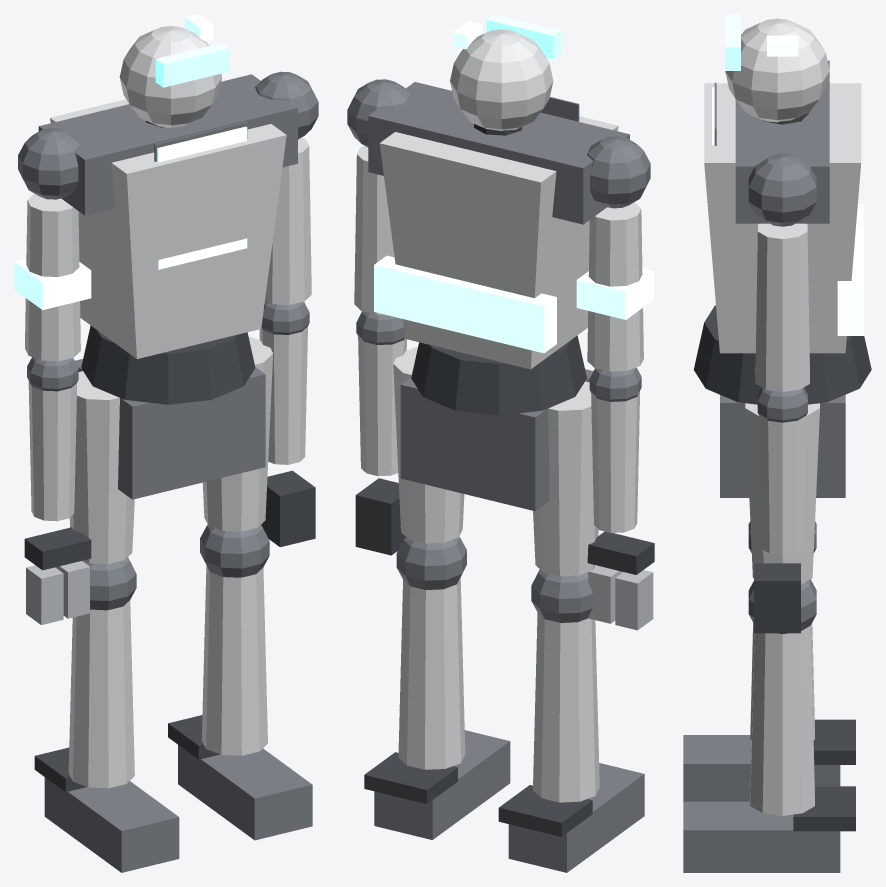
The model's file is service-robot-biped.glb.
3 renders of one model, left to right at view 1: azimuth 30°, elevation 25°; view 2: azimuth 150°, elevation 25°; view 3: azimuth 270°, elevation 25°, orthographic. The views are drawn at different scales.
Parts seen in each view (by area): view 1: service-robot-biped, arm-left/shell, arm-left/graphite, arm-left/steel, arm-left/screen, arm-left/rubber; view 2: service-robot-biped, arm-left/shell, arm-left/graphite, arm-left/steel, arm-left/screen, arm-left/rubber; view 3: service-robot-biped.
Part boxes in pixels (x1,y1,x2,y2): service-robot-biped: (34, 14, 318, 872); arm-left/shell: (25, 193, 80, 521); arm-left/graphite: (18, 128, 81, 391); arm-left/steel: (26, 561, 89, 624); arm-left/screen: (14, 259, 91, 310); arm-left/rubber: (24, 527, 91, 570); service-robot-biped: (347, 14, 644, 872); arm-left/shell: (587, 202, 643, 532); arm-left/graphite: (586, 136, 650, 401); arm-left/steel: (588, 565, 653, 630); arm-left/screen: (576, 268, 654, 319); arm-left/rubber: (587, 531, 654, 574); service-robot-biped: (683, 14, 871, 872).
Size of the model in its own units: 0.6565 by 1.69 by 0.36.
